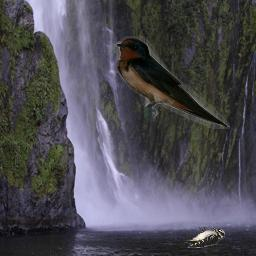Swallow: (113, 36, 230, 129)
Woodpecker: (180, 227, 227, 249)
